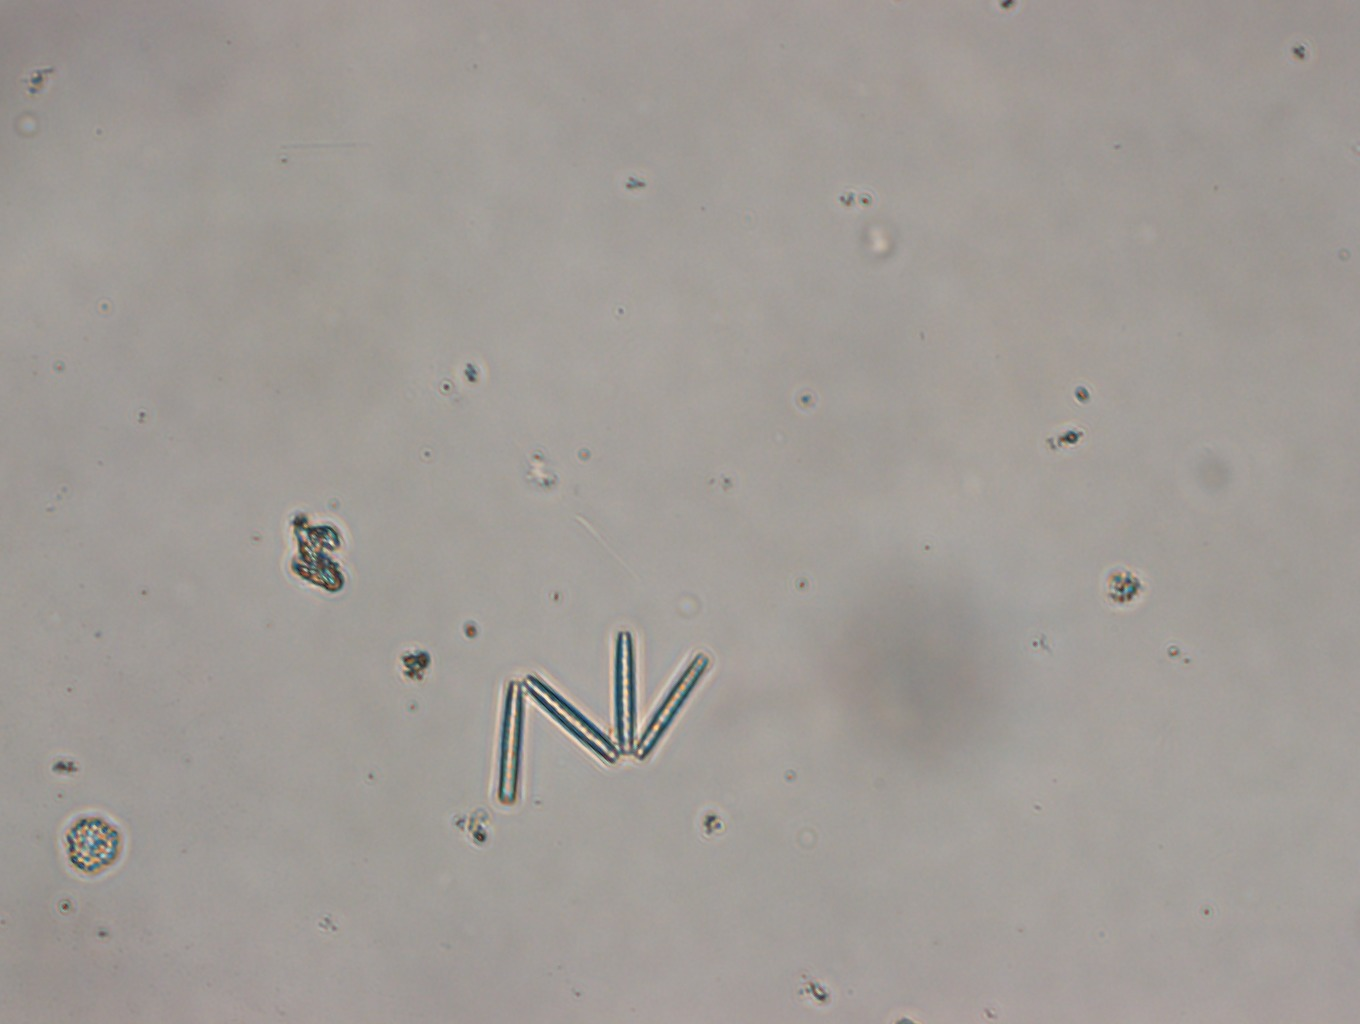thalassionema nitzschioides: (492, 626, 716, 805)
